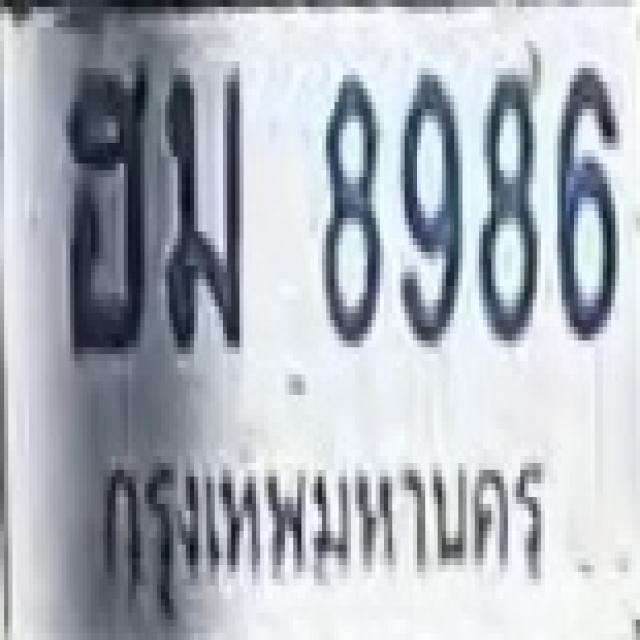6: (554, 65, 616, 337)
8: (318, 68, 380, 341), (475, 68, 537, 341)
9: (396, 68, 458, 341)
A33: (163, 61, 242, 348)
A44: (62, 61, 149, 348)
BKK: (90, 426, 548, 617)
